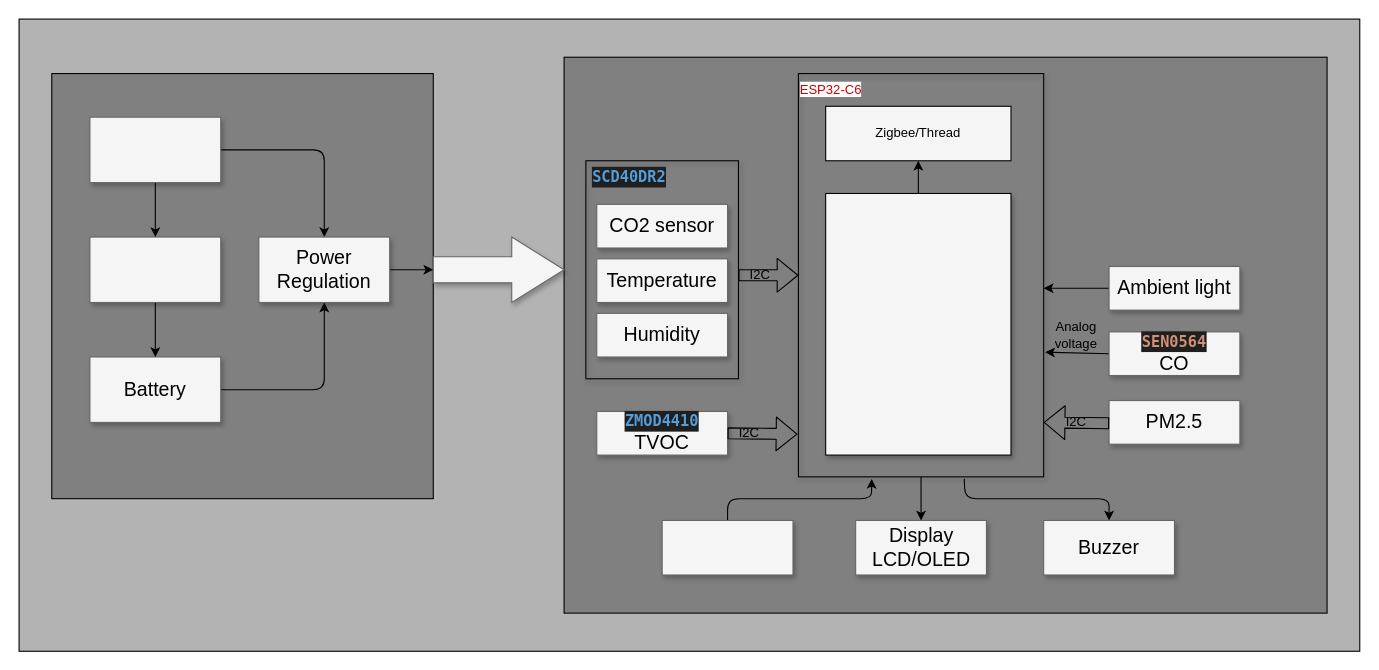
This 1379x670 diagram has some shape labels left out. Each missing label, with the centre of its shape:
"Battery Charger" goes at pixel 155 271.
"Data Acquisition and conditioning" goes at pixel 919 325.
"Input Switches" goes at pixel 728 549.
"USB Supply" goes at pixel 155 151.
